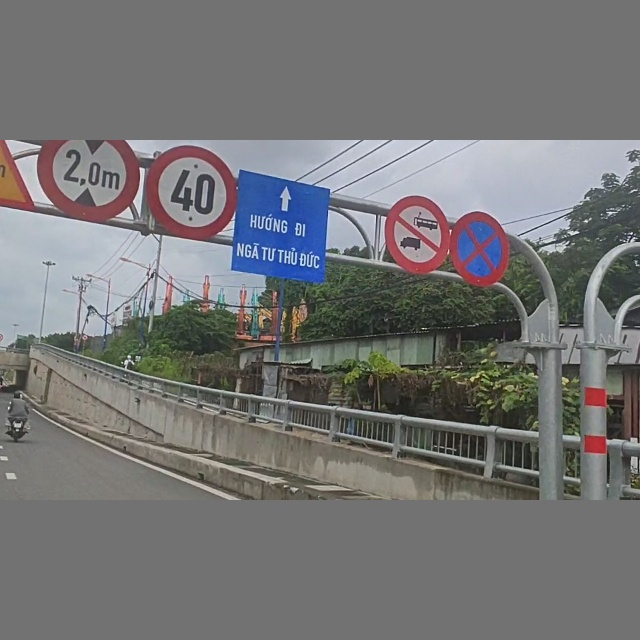P.107: (384, 196, 450, 275)
P.117*: (39, 141, 141, 221)
P.127*40: (149, 147, 237, 241)
P.130: (453, 211, 514, 286)
